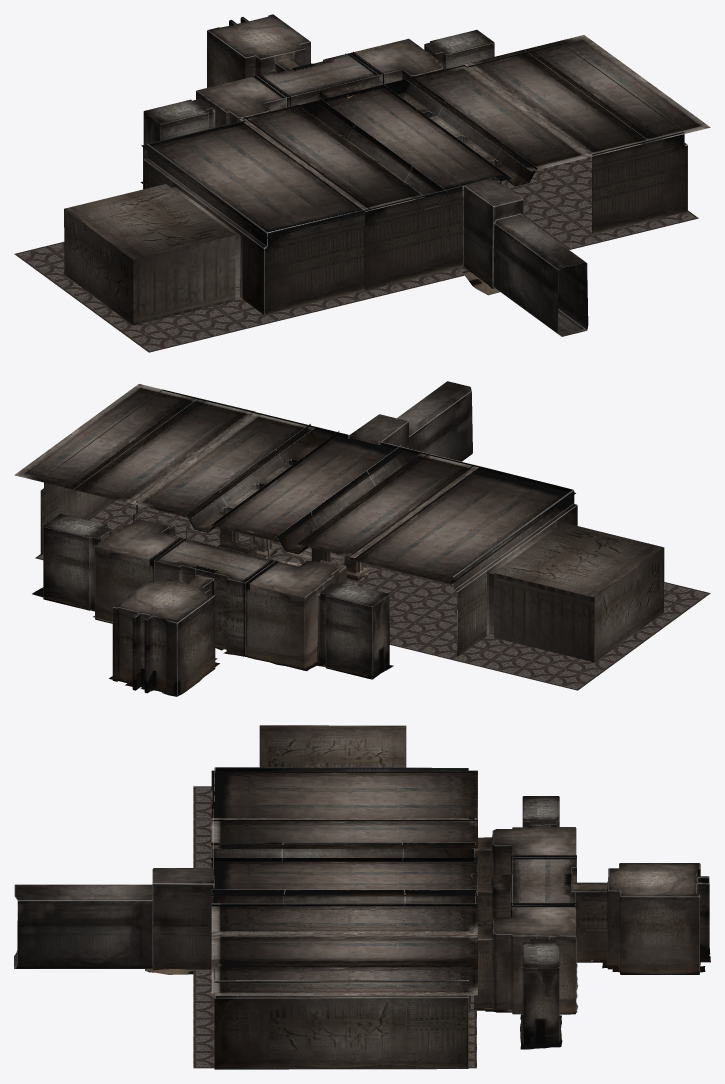
The model's file is Building.fbx.
3 views of the same model, one above another, from view 1: azimuth 30°, elevation 25°; view 2: azimuth 150°, elevation 25°; view 3: azimuth 270°, elevation 25° (orthographic). The views are drawn at different scales.
Visible parts, largest first — view 1: wall hall left_wall hall left_0, ceiling hall side_ceiling hall side_0, first hallway_first hallway_0, ceiling halll midle_ceiling halll midle_0.002, wall hall right_wall hall right_0, Plane.001, ceiling halll midle_ceiling halll midle_0, Plane, main room_main room_0, column right_column right_0, middle room hallway_middle room hallway_0, colum left_colum left_0 (+5 smaller); view 2: ceiling hall side_ceiling hall side_0, wall hall left_wall hall left_0, Plane.001, ceiling halll midle_ceiling halll midle_0.002, main room_main room_0, left room hallway_left room hallway_0, ceiling halll midle_ceiling halll midle_0, left room_left room_0, first hallway_first hallway_0, middle room hallway_middle room hallway_0, right room hallway_right room hallway_0, right room_right room_0 (+4 smaller); view 3: ceiling hall side_ceiling hall side_0, wall hall right_wall hall right_0, first hallway_first hallway_0, main room_main room_0, ceiling halll midle_ceiling halll midle_0.002, ceiling halll midle_ceiling halll midle_0, wall hall left_wall hall left_0, right room hallway_right room hallway_0, column right_column right_0, colum left_colum left_0, right room_right room_0, left room hallway_left room hallway_0 (+5 smaller).
Part boxes in pixels (box(x1,y1,x2,y2)): wall hall left_wall hall left_0: box(64, 42, 566, 325); ceiling hall side_ceiling hall side_0: box(239, 35, 710, 211); first hallway_first hallway_0: box(462, 177, 588, 336); ceiling halll midle_ceiling halll midle_0.002: box(141, 117, 371, 238); wall hall right_wall hall right_0: box(562, 43, 687, 234); Plane.001: box(14, 242, 439, 352); ceiling halll midle_ceiling halll midle_0: box(318, 88, 511, 195); Plane: box(431, 156, 698, 281); main room_main room_0: box(207, 14, 310, 87); column right_column right_0: box(382, 76, 537, 186); middle room hallway_middle room hallway_0: box(256, 53, 378, 107); colum left_colum left_0: box(291, 98, 446, 209); ceiling hall side_ceiling hall side_0: box(14, 384, 478, 558); wall hall left_wall hall left_0: box(254, 411, 664, 662); Plane.001: box(346, 564, 710, 690); ceiling halll midle_ceiling halll midle_0.002: box(349, 465, 575, 584); main room_main room_0: box(112, 575, 215, 695); left room hallway_left room hallway_0: box(245, 560, 346, 669); ceiling halll midle_ceiling halll midle_0: box(211, 435, 402, 542); left room_left room_0: box(318, 582, 389, 679); first hallway_first hallway_0: box(348, 381, 472, 461); middle room hallway_middle room hallway_0: box(154, 538, 274, 655); right room hallway_right room hallway_0: box(95, 518, 183, 623); right room_right room_0: box(43, 513, 111, 610); ceiling hall side_ceiling hall side_0: box(211, 818, 477, 995); wall hall right_wall hall right_0: box(214, 946, 468, 1069); first hallway_first hallway_0: box(14, 867, 214, 970); main room_main room_0: box(572, 863, 709, 974); ceiling halll midle_ceiling halll midle_0.002: box(211, 770, 477, 821); ceiling halll midle_ceiling halll midle_0: box(211, 860, 477, 896); wall hall left_wall hall left_0: box(213, 725, 468, 867); right room hallway_right room hallway_0: box(474, 905, 576, 1014); column right_column right_0: box(211, 889, 477, 906); colum left_colum left_0: box(210, 842, 476, 861); right room_right room_0: box(522, 939, 559, 1044); left room hallway_left room hallway_0: box(474, 827, 576, 883).
Bounding box in the file's own units: 3527 × 499 × 3551.
